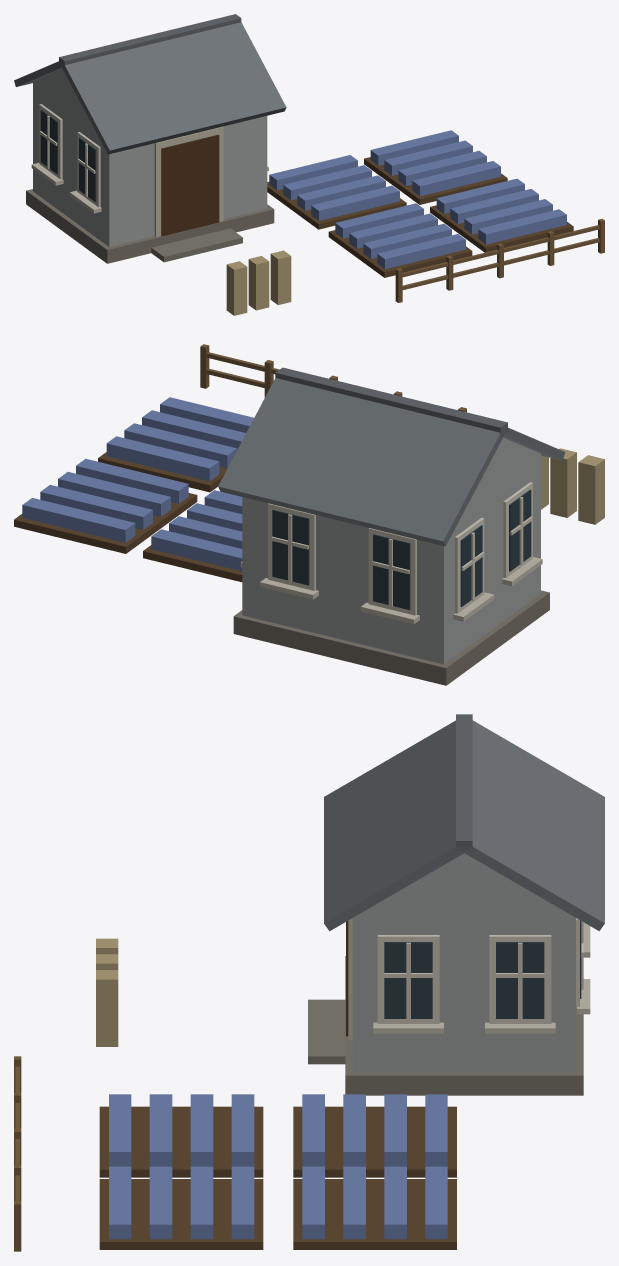
Rendered from procedural_flax_farm@6.glb.
3 renders of one model, top to bottom at view 1: azimuth 30°, elevation 25°; view 2: azimuth 150°, elevation 25°; view 3: azimuth 270°, elevation 25°, orthographic. The views are drawn at different scales.
Parts seen in each view (by area): view 1: part_0; view 2: part_0; view 3: part_0.
Part boxes in pixels (left/top/right/bottom): part_0: left=14, top=14, right=604, bottom=315; part_0: left=14, top=344, right=604, bottom=685; part_0: left=14, top=714, right=604, bottom=1251.
Bounding box in the file's own units: 8.86 × 3.83 × 7.94.
